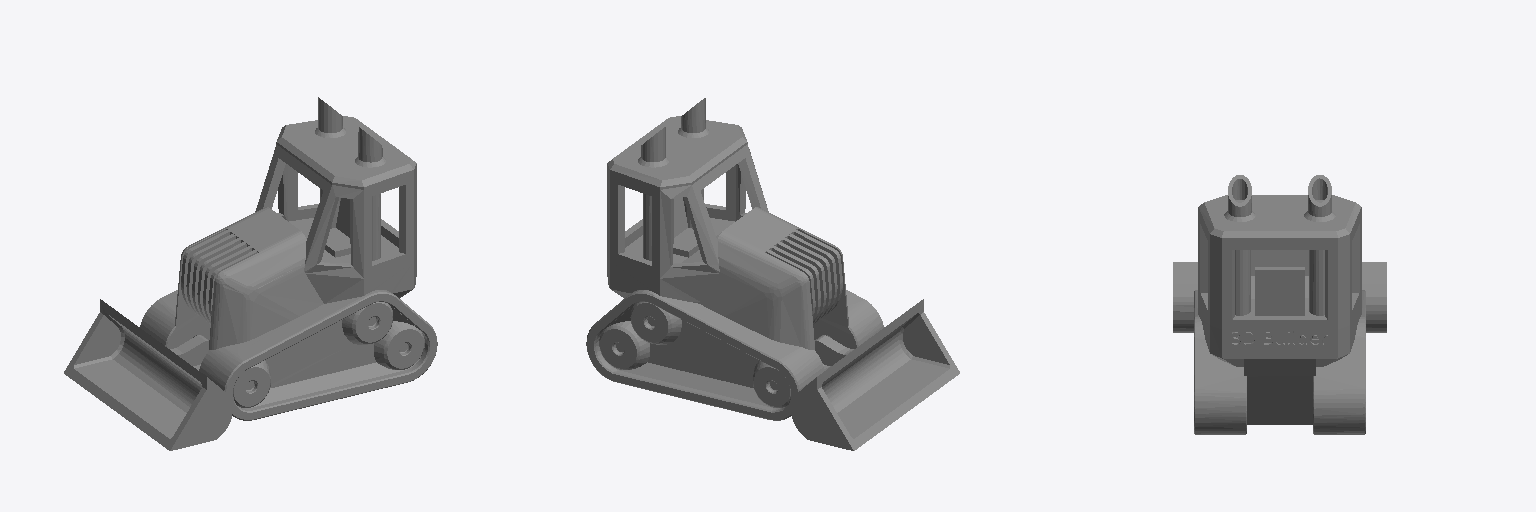
Rendered from buildozer.obj.
The picture shows the model from 3 angles: view 1: azimuth 30°, elevation 25°; view 2: azimuth 150°, elevation 25°; view 3: azimuth 270°, elevation 25°; orthographic projection.
Visible parts, largest first — view 1: B; view 2: B; view 3: B.
Part boxes in pixels (bbox=[...]): B: bbox=[64, 97, 437, 450]; B: bbox=[586, 98, 959, 450]; B: bbox=[1173, 175, 1386, 434].
Size of the model in its own units: 60.36 by 50.65 by 40.